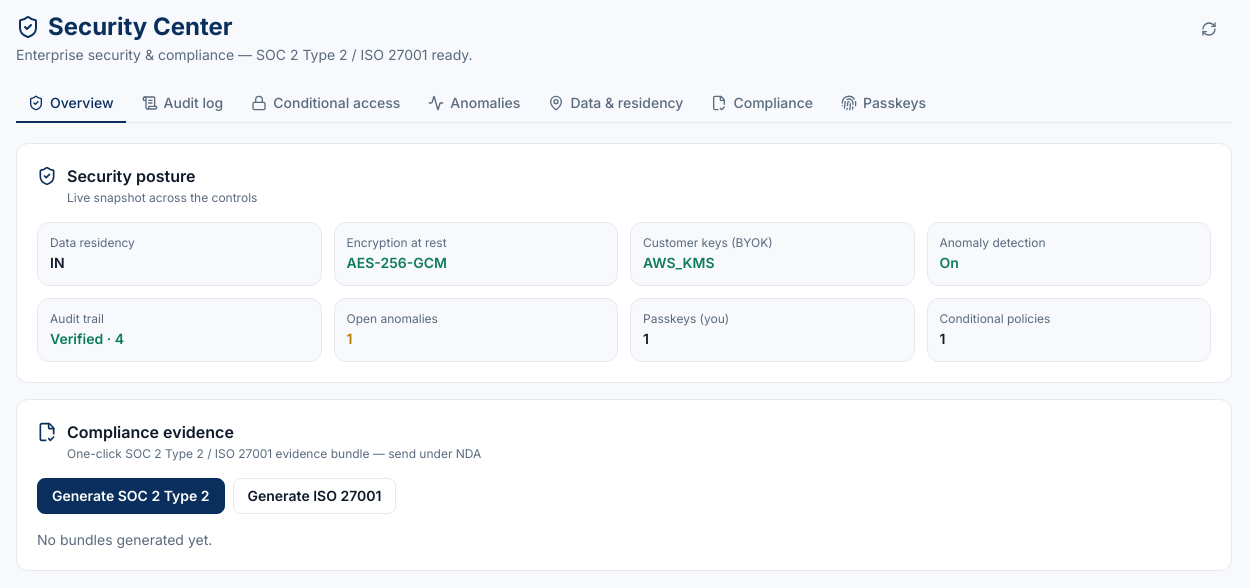
SecurityCenter › shows the verified audit-chain badge on the audit tab
expect the heading "Security posture" is shown: met, box [67,166,196,186]
Click the tab "Audit log" at (182, 104), box [130,85,235,123]
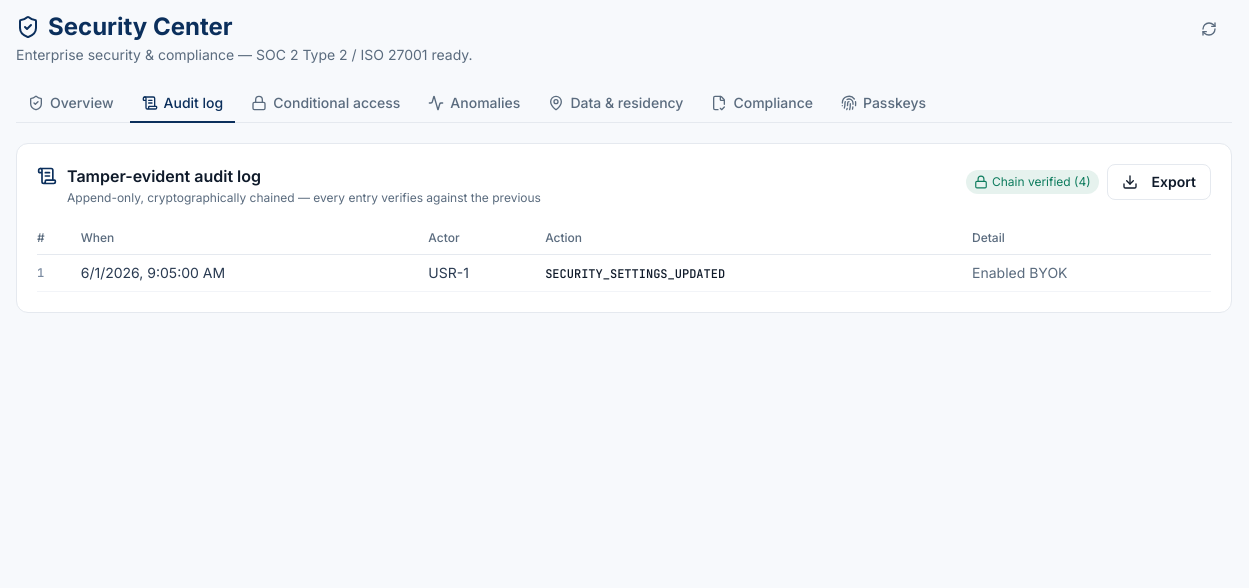
expect the text "Chain verified (4)" is shown: met, box [966,170,1098,194]
expect the text "SECURITY_SETTINGS_UPDATED" is shown: met, box [545,266,725,282]
